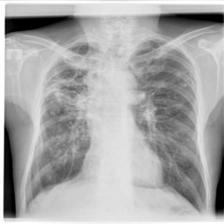tuberculosis: (19, 28, 213, 220)
